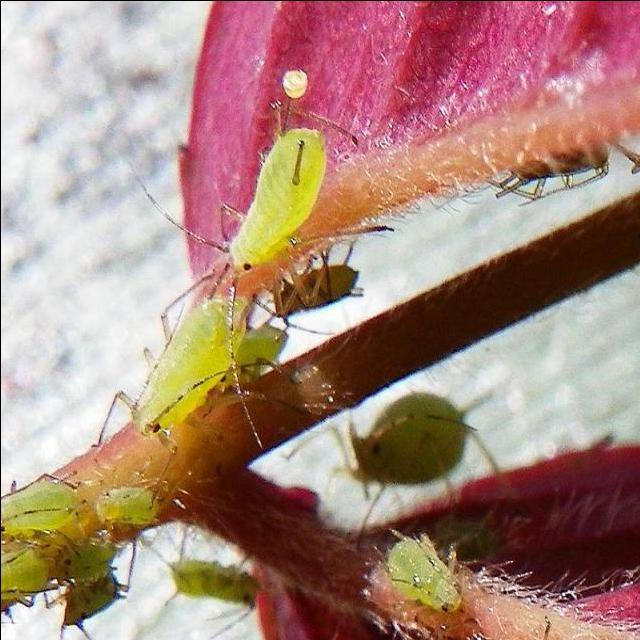aphid: (6, 475, 270, 628), (120, 276, 266, 452), (224, 106, 342, 278), (346, 393, 489, 506), (385, 516, 466, 620), (265, 257, 374, 317)
